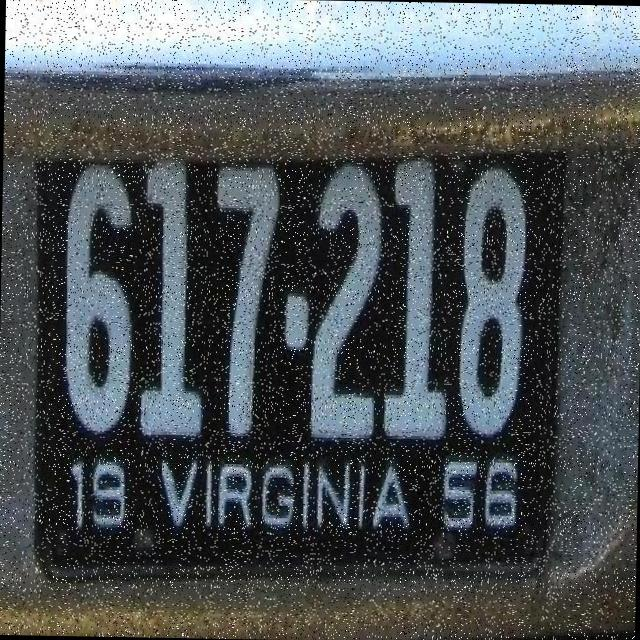LicensePlate: (6, 128, 584, 590)
